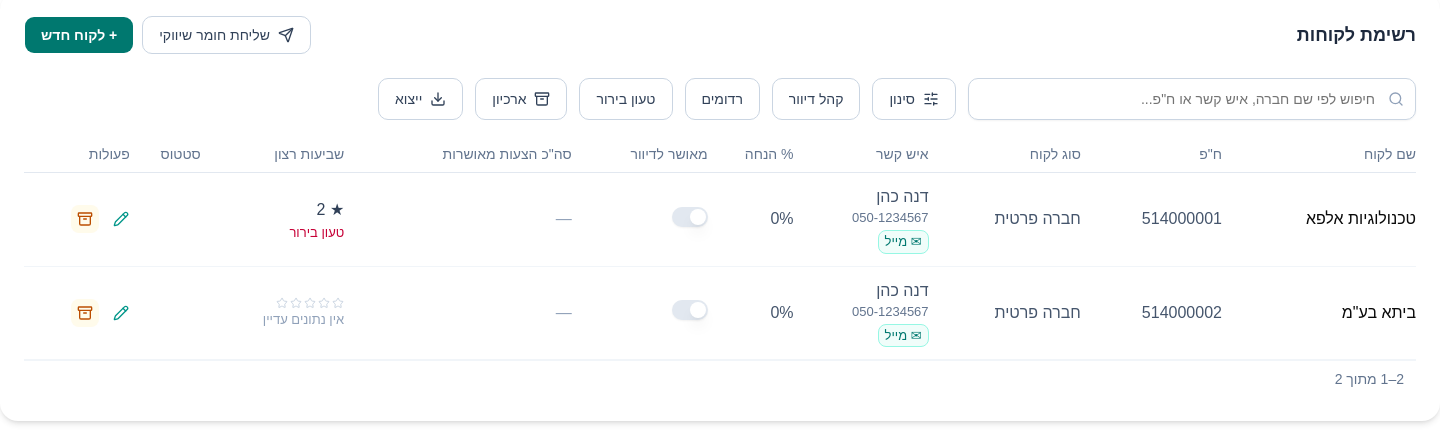
Test: רשימת-הלקוחות — צ'יפ "טעון בירור" (A3) › 🔴 לקוח שאין עליו נתון-משוב **אינו** נכנס לרשימת-הטיפול
Check: the row with test id "customer-row-1" is shown, box [24,172,1416,266]
Click the button with test id "customers-preset-low-satisfaction": (626, 99) [580,78,673,120]
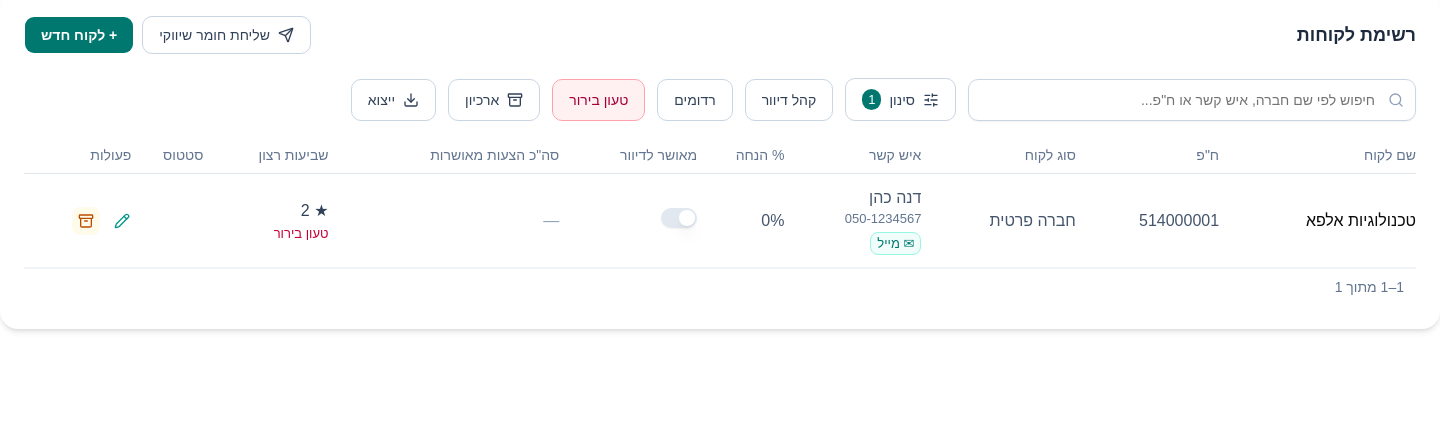
Check: the row with test id "customer-row-1" is shown, box [24,174,1416,268]
Check: the row with test id "customer-row-2" is gone
